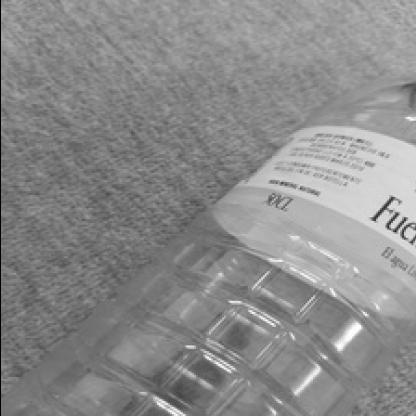plastic_bottles: (0, 67, 416, 416)
